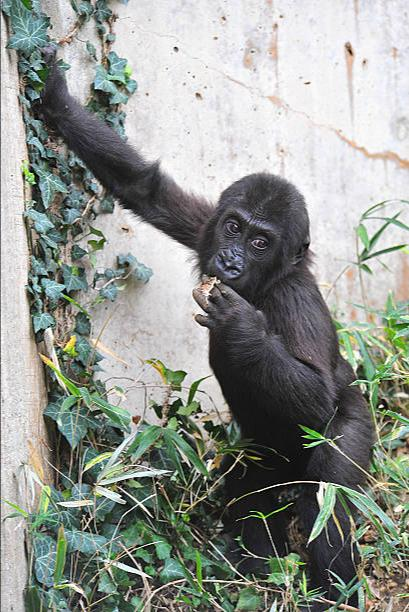gorille_Autres: (62, 164, 399, 612)
